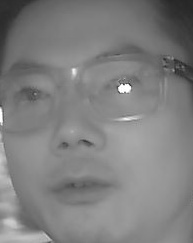glass: (76, 51, 166, 124), (1, 65, 60, 132)
mouth: (44, 170, 112, 208)
